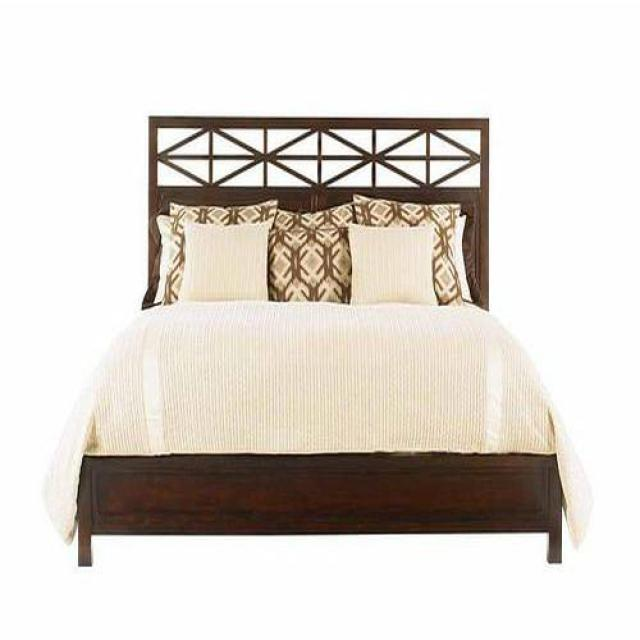bed: (44, 118, 594, 568)
